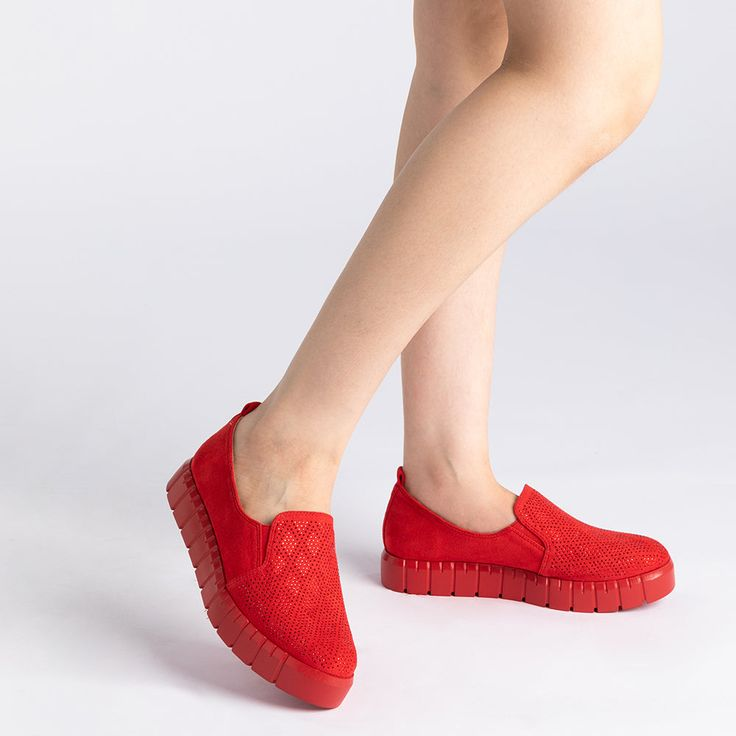gamuza: (188, 402, 543, 589)
